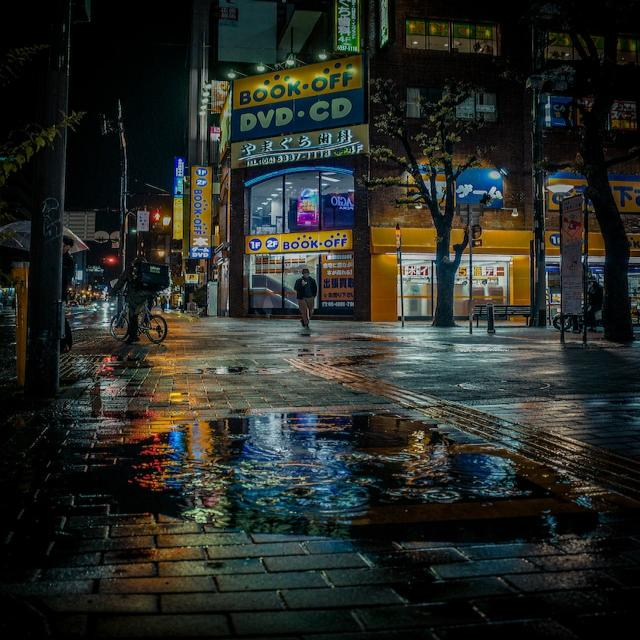pothole: (113, 407, 597, 549)
